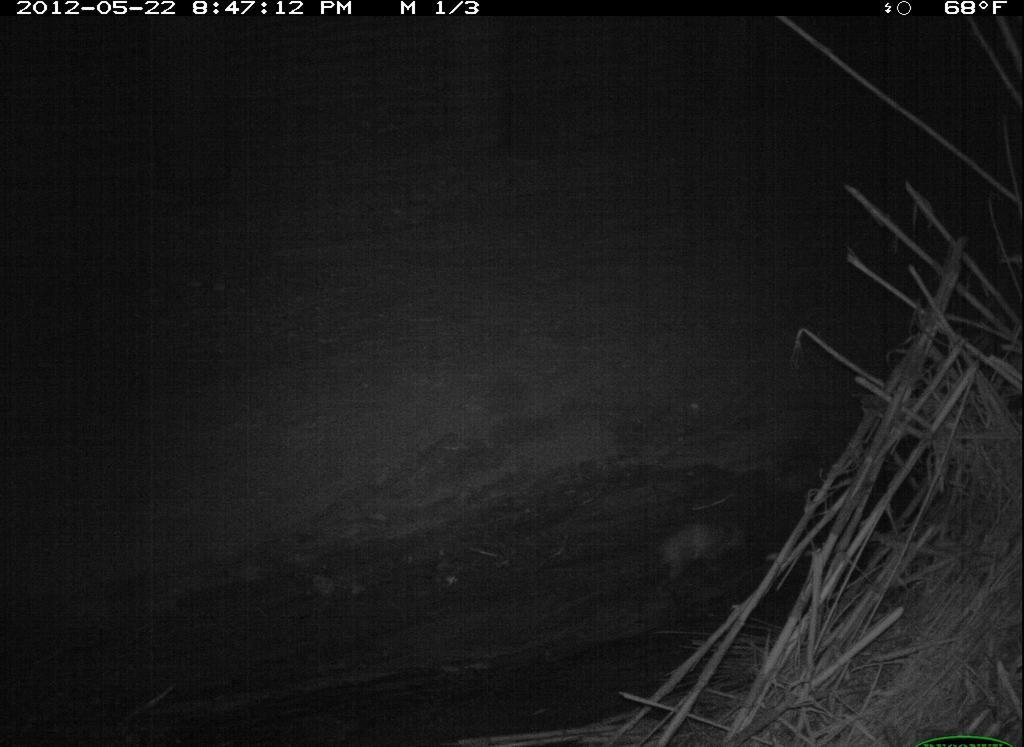opossum: (656, 511, 762, 588)
